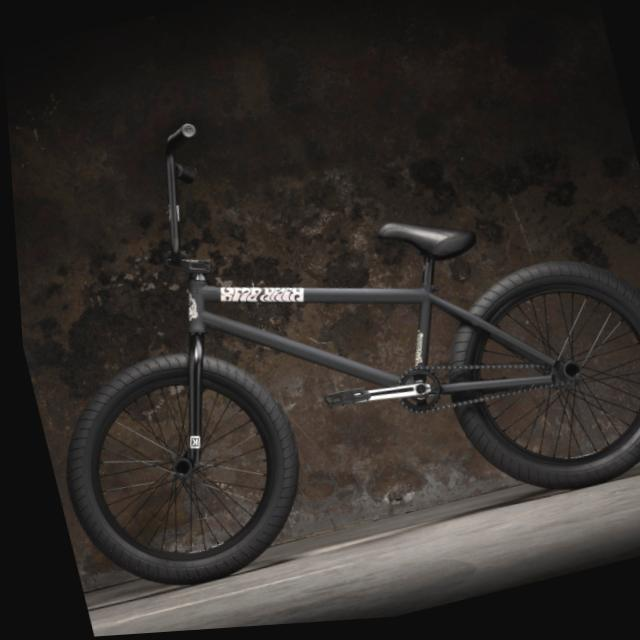bmx-bike: (3, 27, 640, 615)
